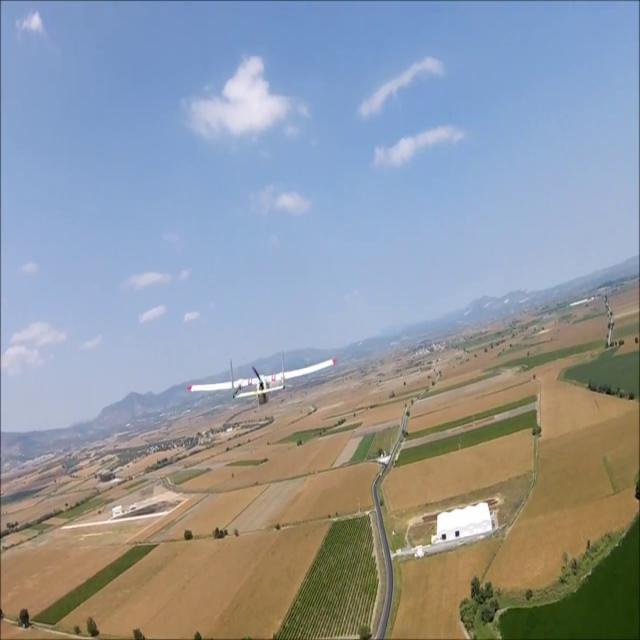iha: (186, 377, 338, 381)
